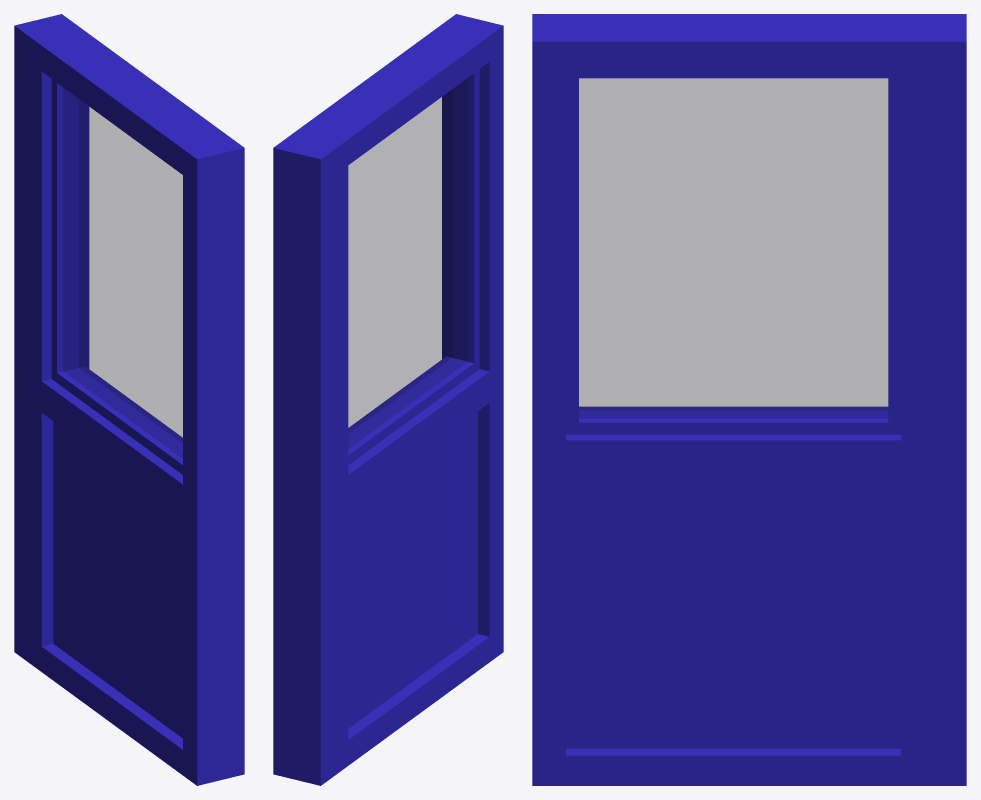
The model's file is SM_wall10.fbx.
The picture shows the model from 3 angles, left to right: view 1: azimuth 30°, elevation 25°; view 2: azimuth 150°, elevation 25°; view 3: azimuth 270°, elevation 25°; orthographic projection. The views are drawn at different scales.
Visible parts, largest first — view 1: wall3; view 2: wall3; view 3: wall3.
Boxes of the visible parts, x1=… form: wall3: x1=14, y1=14, x2=244, y2=785; wall3: x1=273, y1=14, x2=503, y2=785; wall3: x1=532, y1=14, x2=966, y2=785.
Size of the model in its own units: 15 by 189 by 100.
